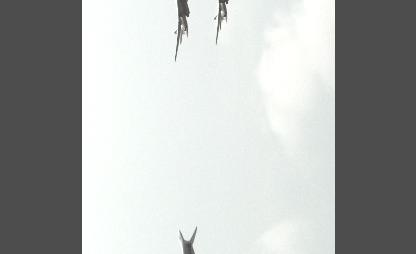Su34: (170, 0, 192, 62), (211, 0, 230, 46), (176, 225, 197, 253)
